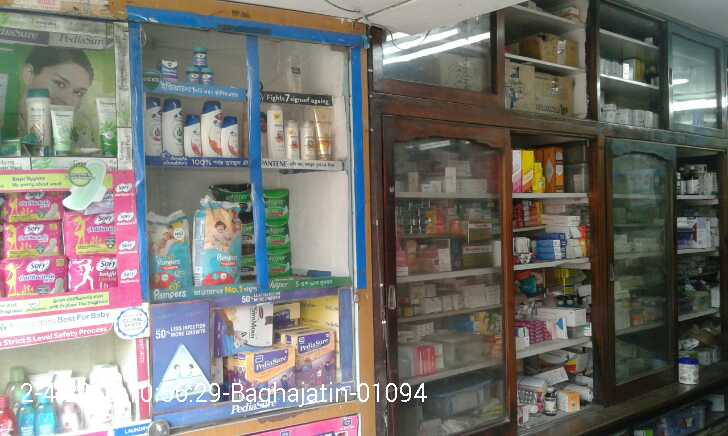vicks: (158, 59, 179, 83), (200, 67, 215, 87), (193, 47, 209, 65), (184, 66, 199, 85)
